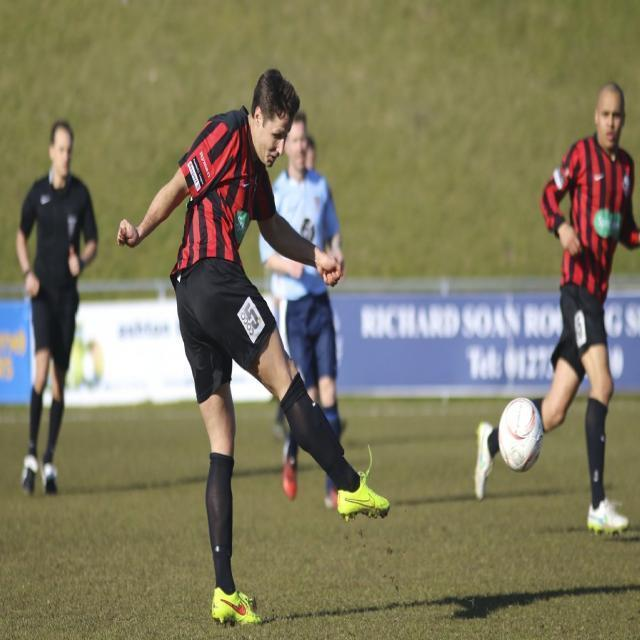ball: (494, 395, 549, 473)
